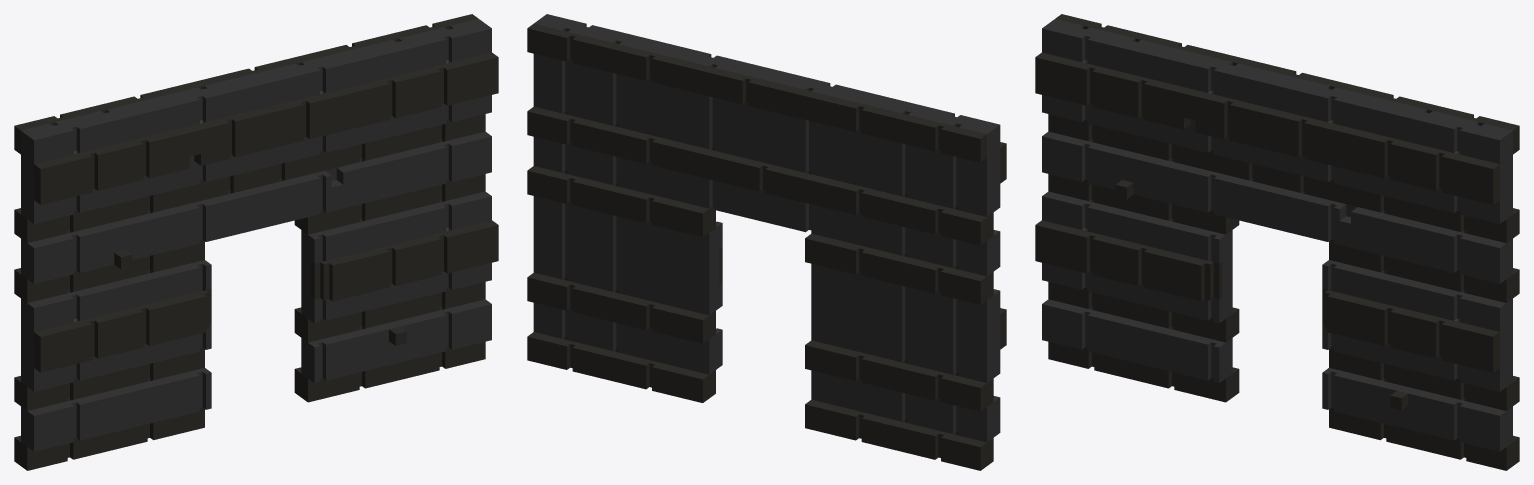
Rendered from WallDoorwayStone.obj.
3 views of the same model, side by side, from view 1: azimuth 30°, elevation 25°; view 2: azimuth 150°, elevation 25°; view 3: azimuth 330°, elevation 25° (orthographic).
Size of the model in its own units: 8 by 5.6 by 0.8.
Materials: 1 (1 with a texture image).
